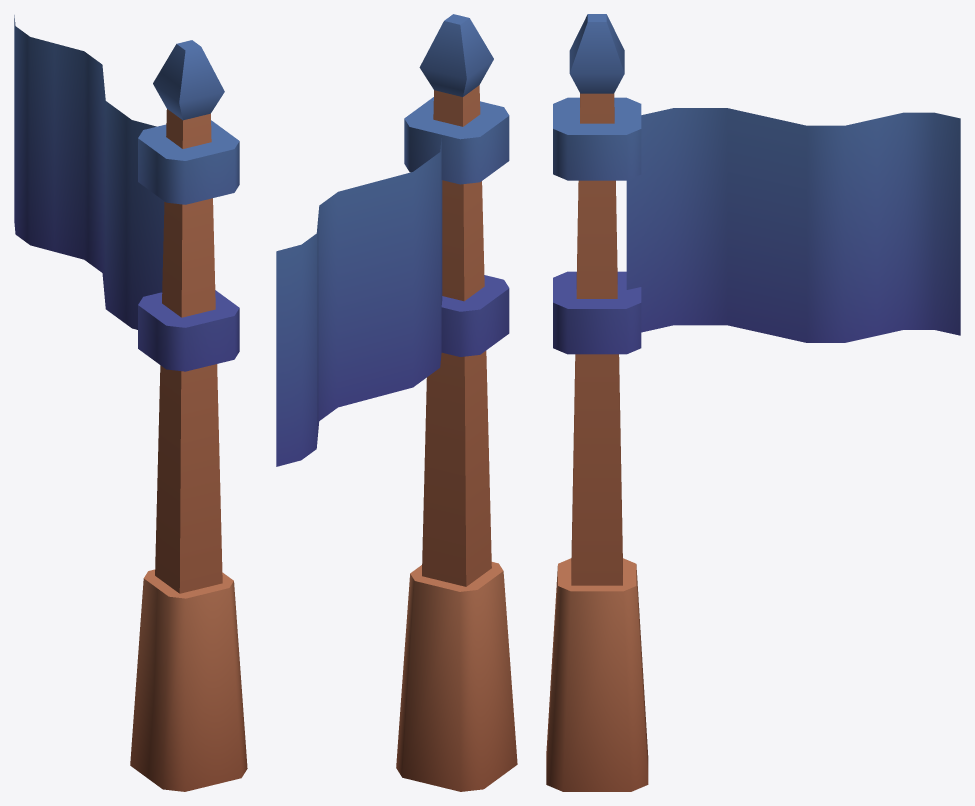
The model's file is flag.glb.
The picture shows the model from 3 angles, left to right: view 1: azimuth 30°, elevation 25°; view 2: azimuth 150°, elevation 25°; view 3: azimuth 270°, elevation 25°; orthographic projection. The views are drawn at different scales.
Visible parts, largest first — view 1: flag; view 2: flag; view 3: flag.
Boxes of the visible parts, box(x1,y1,x2,y2) form: flag: box(14, 15, 247, 791); flag: box(276, 14, 517, 791); flag: box(546, 14, 960, 791).
Bounding box in the file's own units: 0.1064 × 0.8656 × 0.4323.
